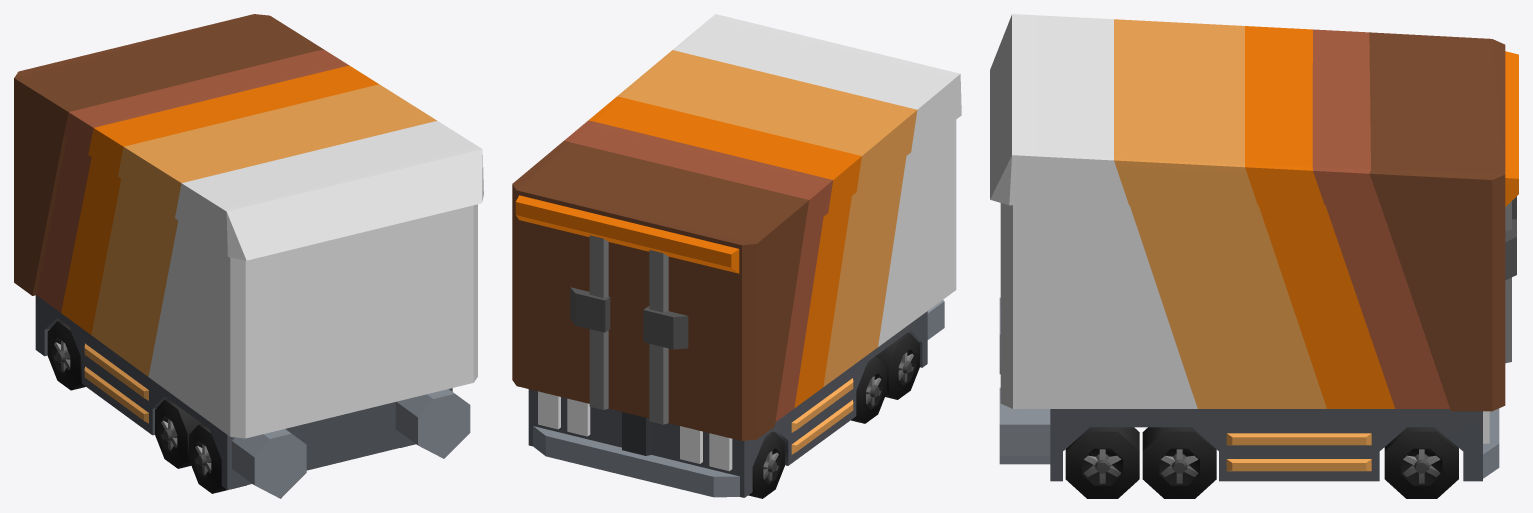
The model's file is cargo_03_C_2.fbx.
3 renders of one model, left to right at view 1: azimuth 30°, elevation 25°; view 2: azimuth 150°, elevation 25°; view 3: azimuth 270°, elevation 25°, orthographic. The views are drawn at different scales.
Visible parts, largest first — view 1: cargo_03_C_2; view 2: cargo_03_C_2; view 3: cargo_03_C_2.
Part boxes in pixels (<box>): cargo_03_C_2: <box>14,14,483,498</box>; cargo_03_C_2: <box>512,14,961,498</box>; cargo_03_C_2: <box>990,14,1518,498</box>.
Bounding box in the file's own units: 14.06 × 16.34 × 22.26.
